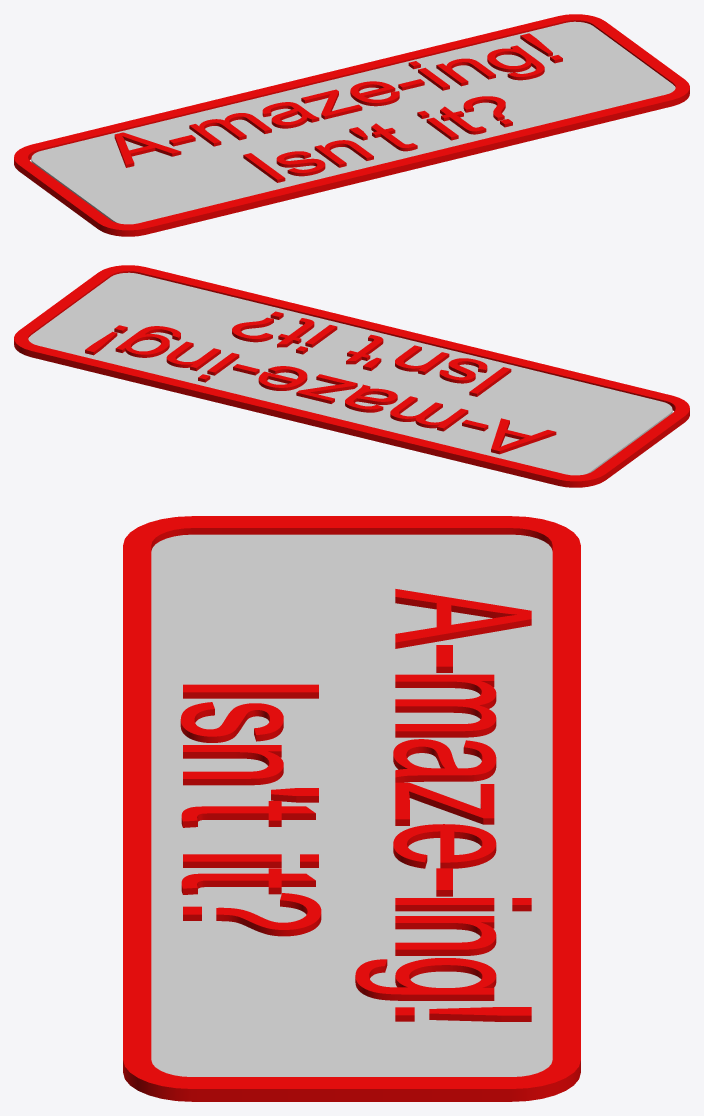
The model's file is Amazing.fbx.
3 renders of one model, top to bottom at view 1: azimuth 30°, elevation 25°; view 2: azimuth 150°, elevation 25°; view 3: azimuth 270°, elevation 25°, orthographic. The views are drawn at different scales.
Parts seen in each view (by area): view 1: Rectangle009, SignEdge006, Text007; view 2: Rectangle009, SignEdge006, Text007; view 3: Rectangle009, SignEdge006, Text007.
Boxes of the visible parts, x1,y1,x2,y2 form: Rectangle009: [31, 21, 675, 224]; SignEdge006: [14, 14, 689, 236]; Text007: [114, 33, 562, 182]; Rectangle009: [28, 272, 672, 475]; SignEdge006: [14, 265, 689, 487]; Text007: [85, 311, 556, 454]; Rectangle009: [151, 534, 552, 1076]; SignEdge006: [123, 516, 580, 1101]; Text007: [180, 589, 531, 1021].
Size of the model in its own units: 95.9 by 1.3 by 32.39.
